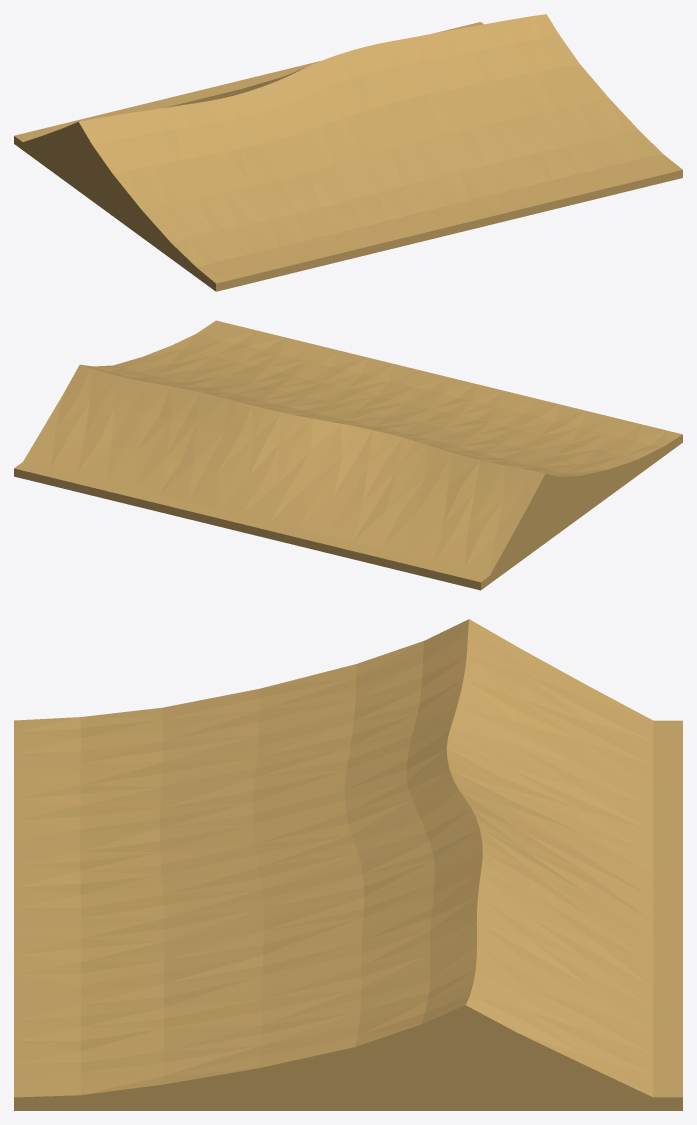
Rendered from transverse-dune-ridge.glb.
The picture shows the model from 3 angles, top to bottom: view 1: azimuth 30°, elevation 25°; view 2: azimuth 150°, elevation 25°; view 3: azimuth 270°, elevation 25°; orthographic projection. The views are drawn at different scales.
Visible parts, largest first — view 1: continuous_transverse_asymmetric_ridge; view 2: continuous_transverse_asymmetric_ridge; view 3: continuous_transverse_asymmetric_ridge.
Part boxes in pixels (x1,y1,x2,y2): continuous_transverse_asymmetric_ridge: [14, 14, 682, 291]; continuous_transverse_asymmetric_ridge: [14, 320, 682, 590]; continuous_transverse_asymmetric_ridge: [14, 619, 682, 1110].
Bounding box in the file's own units: 120 × 17.29 × 90.
